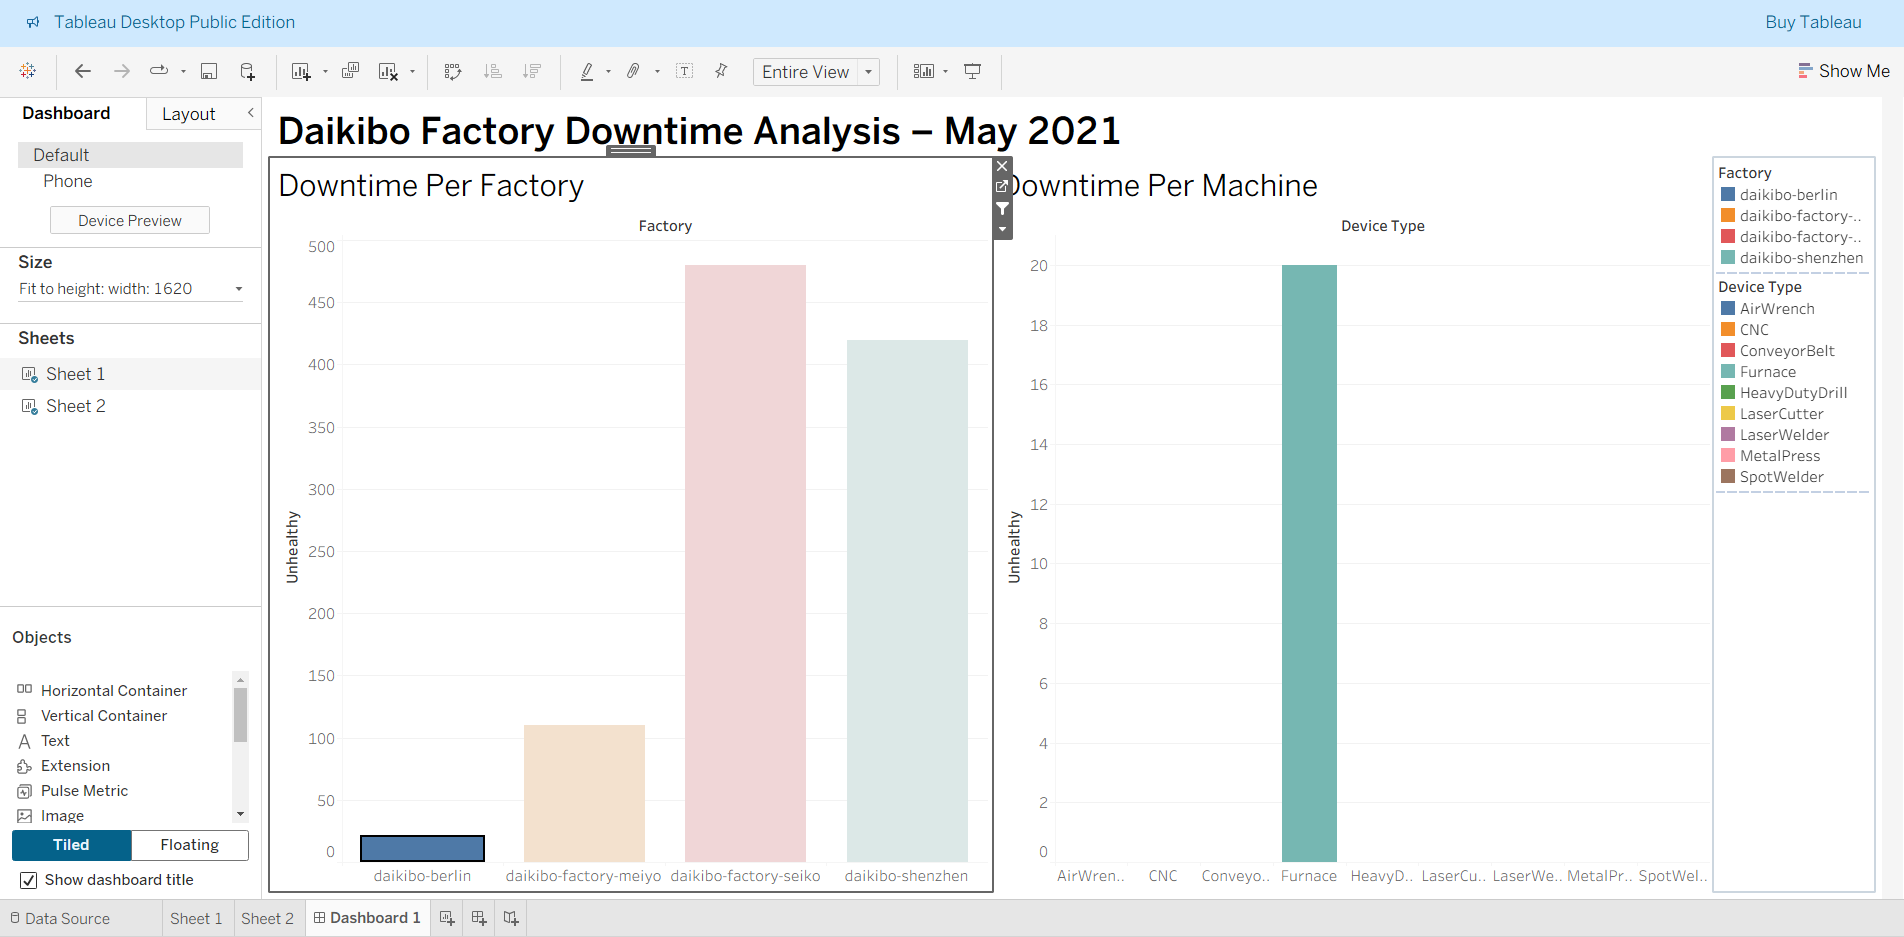

Layout of this report page (visuals, bound fields, positions):
{"tool":"tableau","page":{"name":"Dashboard 1","canvas":[1000,1000],"units":"permille","ordinal":0},"visuals":[{"type":"title","box":[4.9,10,990.1,66.1]},{"type":"worksheet","title":"Sheet 1","mark":"Automatic","rows":["Calculation_1002241828937728"],"cols":["factory"],"box":[4.9,76.1,445.7,914]},{"type":"worksheet","title":"Sheet 2","mark":"Automatic","rows":["Calculation_1002241828937728"],"cols":["deviceType"],"box":[450.6,76.1,445.7,914]},{"type":"legend","title":"Sheet 1","param":"[federated.0o6ija80zvpswg18rf2ki1506vfj].[none:factory:nk]","box":[896.3,76.1,98.8,142.2]},{"type":"legend","title":"Sheet 2","param":"[federated.0o6ija80zvpswg18rf2ki1506vfj].[none:deviceType:nk]","box":[896.3,218.2,98.8,273.1]}]}

Visuals, with their boxes on the dashboard's canvas, which has no fixed pixel size, in thousandths of its width and height (x1, y1, x2, y2). These are canvas units, not pixel positions in the 1904x937 screenshot, which may show the page scaled, cropped or inside an application window:
title: 5, 10, 995, 76
"Sheet 1" worksheet: 5, 76, 451, 990
"Sheet 2" worksheet: 451, 76, 896, 990
"Sheet 1" legend: 896, 76, 995, 218
"Sheet 2" legend: 896, 218, 995, 491
